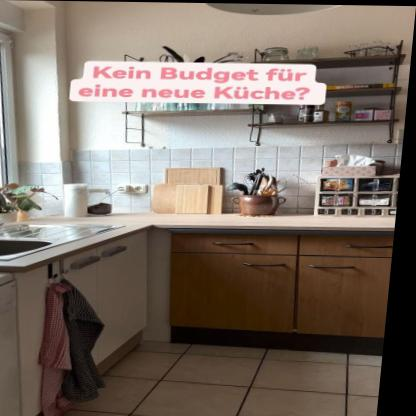Ceramic floor: (70, 342, 390, 416)
